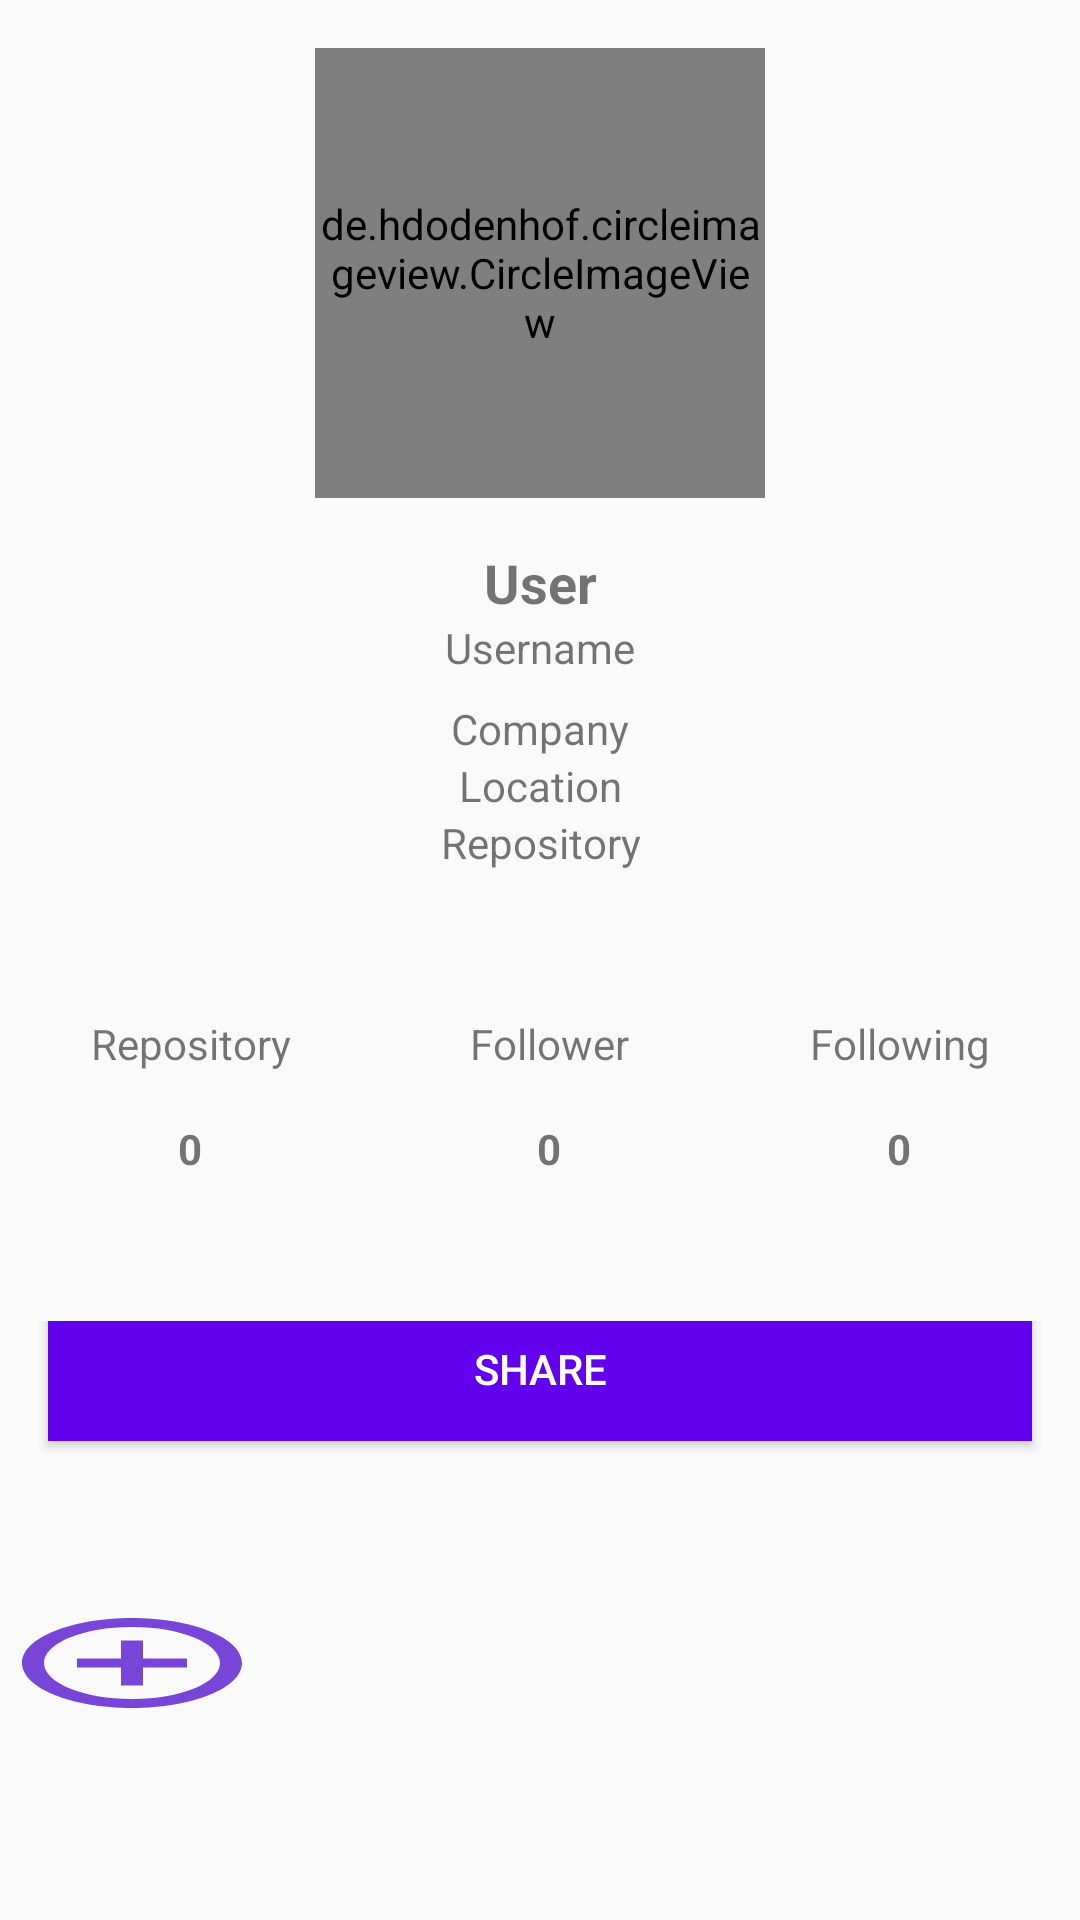

Where icons sit on this 1080 × 1920 app screen, as (x1, y1, x2, y2):
add circle: (22, 1618, 242, 1708)
